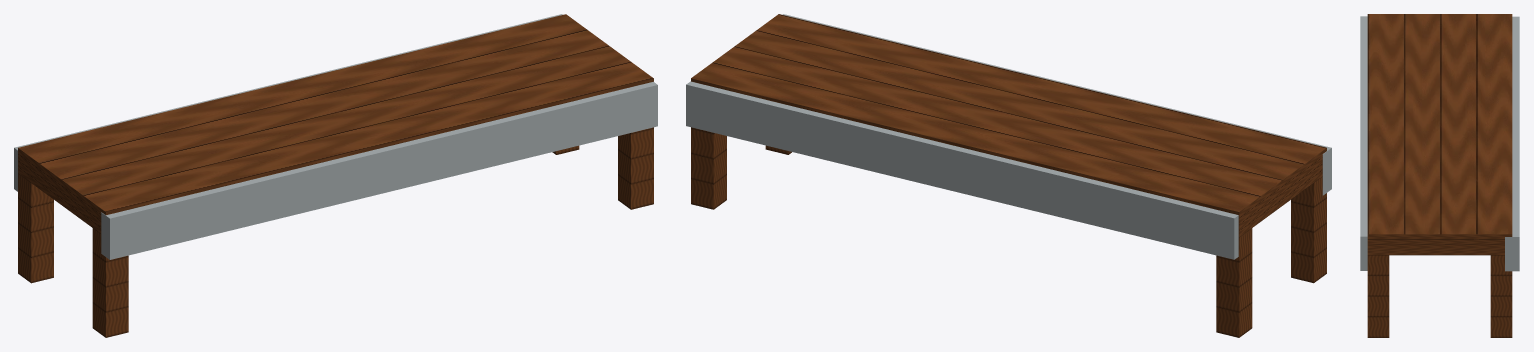
File: prehistoric-survivor-settlement-communal-log-bench-881560e9__23209.glb
3 views of the same model, side by side, from view 1: azimuth 30°, elevation 25°; view 2: azimuth 150°, elevation 25°; view 3: azimuth 270°, elevation 25° (orthographic). The views are drawn at different scales.
Parts seen in each view (by area): view 1: communal-log-bench; view 2: communal-log-bench; view 3: communal-log-bench.
Boxes of the visible parts, <box> form: communal-log-bench: <box>14,14,657,337</box>; communal-log-bench: <box>686,14,1331,337</box>; communal-log-bench: <box>1360,14,1519,337</box>.
Bounding box in the file's own units: 1.8 × 0.3949 × 0.5499.
2 materials, 1 textured.
